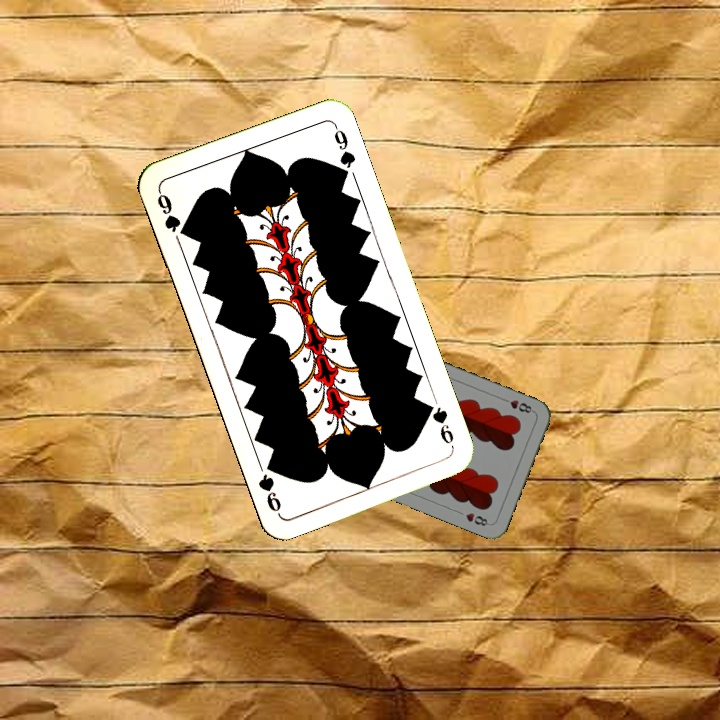G9: (153, 186, 191, 240), (421, 398, 457, 452)
H8: (498, 394, 537, 416)
